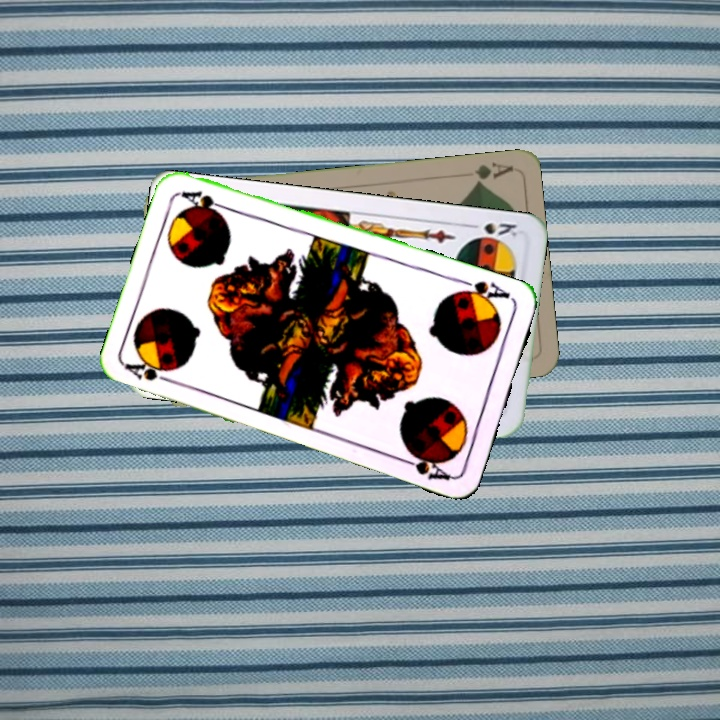GA: (470, 158, 514, 188)
SA: (453, 275, 513, 308), (122, 359, 180, 388)
SK: (463, 218, 519, 239)
